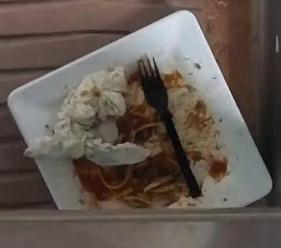pasta: (73, 152, 186, 209)
